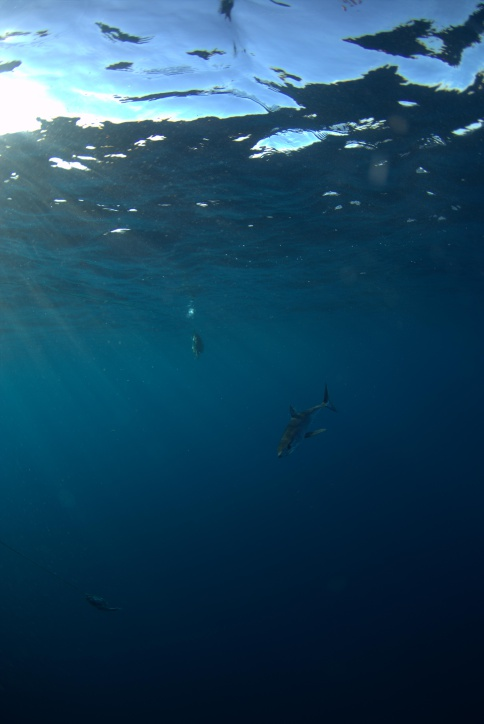Mako: (264, 369, 360, 462)
